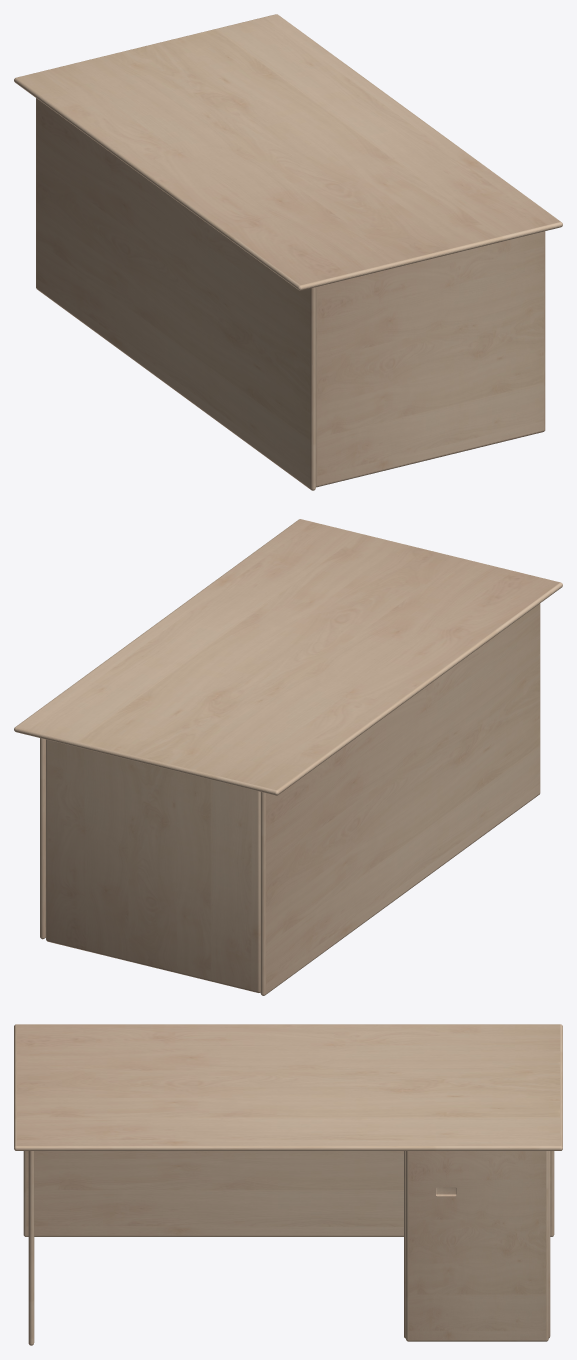
File: Pult Final.fbx
3 renders of one model, top to bottom at view 1: azimuth 30°, elevation 25°; view 2: azimuth 150°, elevation 25°; view 3: azimuth 270°, elevation 25°, orthographic. The views are drawn at different scales.
Parts seen in each view (by area): view 1: platte, front, seite_links; view 2: platte, front, schränkchen, tür_1; view 3: platte, front, tür_1, seite_links, schränkchen.
Part boxes in pixels (x1,y1,x2,y2): platte: (14, 14, 562, 290); front: (36, 98, 315, 490); seite_links: (316, 231, 545, 487); platte: (14, 519, 562, 795); front: (260, 603, 540, 995); schränkchen: (46, 739, 260, 992); tür_1: (40, 738, 45, 939); platte: (14, 1024, 562, 1150); front: (23, 1151, 554, 1236); tür_1: (406, 1151, 548, 1341); seite_links: (28, 1151, 34, 1345); schränkchen: (404, 1151, 550, 1338).
Bounding box in the file's own units: 80 × 61.66 × 150.
1 material, 1 textured.
